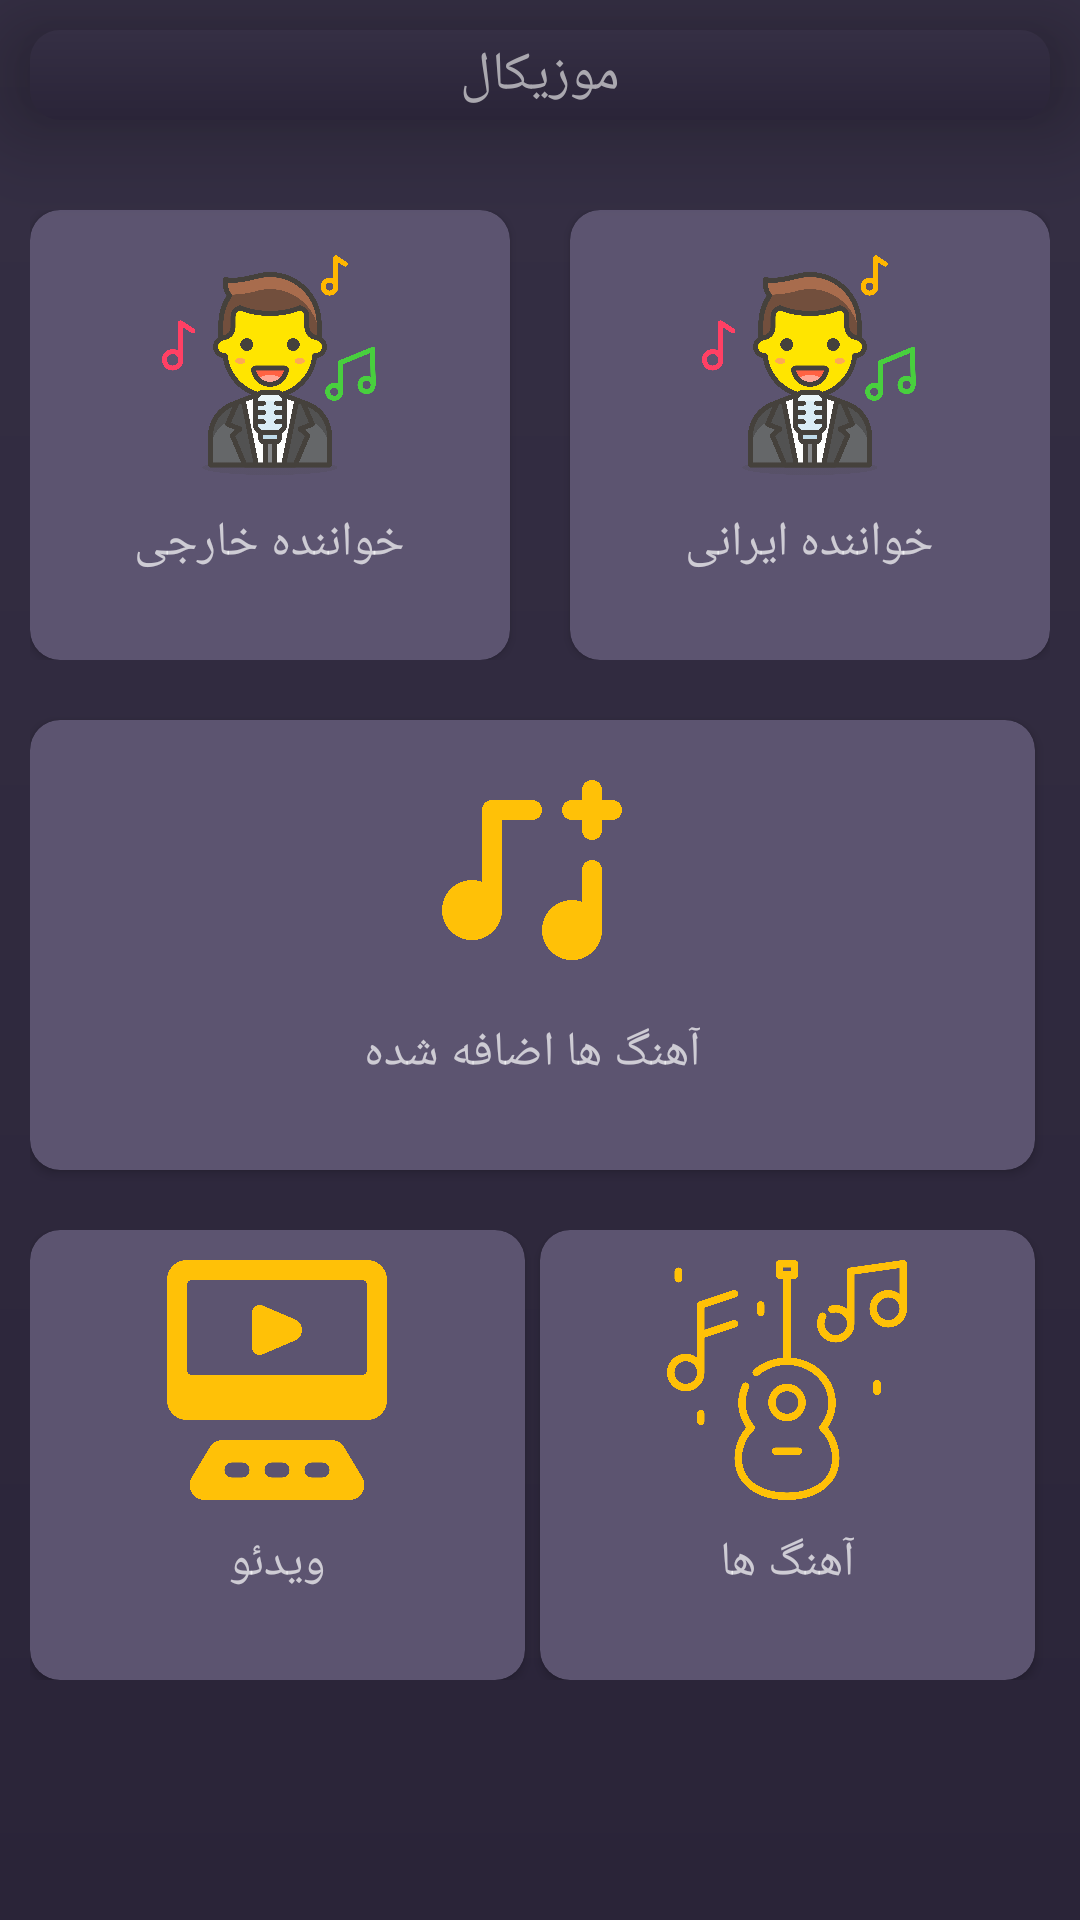

Icons on this 1080×1920 Android screen, each with its box as {"x1": x1, "y1": y1, "x2": x2, "y2": y2}:
add music: {"x1": 442, "y1": 780, "x2": 622, "y2": 960}
